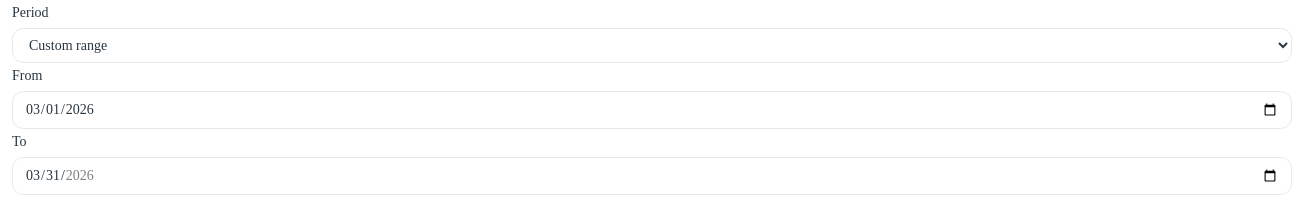
Test case: DateRangeControls (V6 audit S1/S14) › S14: picking a non-custom preset clears the dates
The width and height of the screenshot is (1304, 212).
Expected: the date field labelled "From" holds "2026-03-01", x1=12 y1=91 x2=1292 y2=129
Select "Last 7 days" in the dropdown labelled "Period": (652, 46) x1=12 y1=28 x2=1292 y2=63
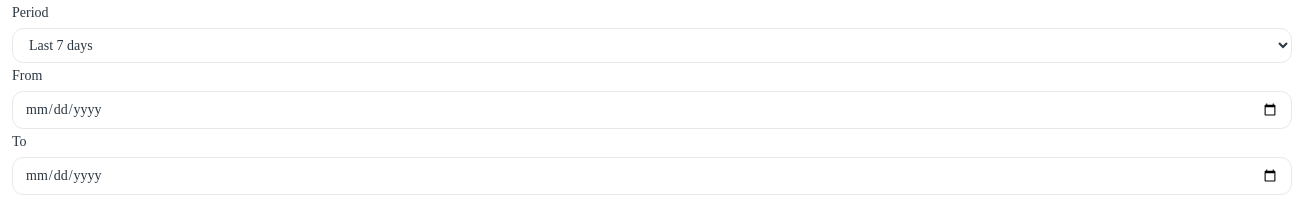
Result: the date field labelled "From" is empty at x1=12 y1=91 x2=1292 y2=129
Result: the date field labelled "To" is empty at x1=12 y1=157 x2=1292 y2=195
